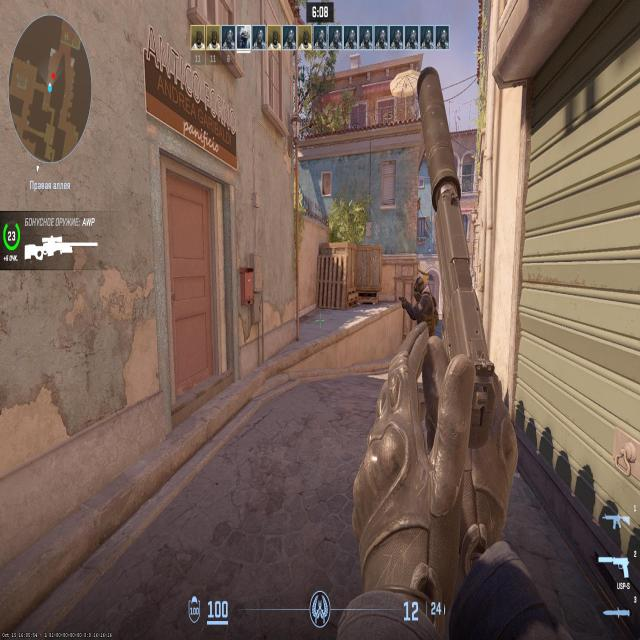CT: (409, 279, 436, 327)
CT_heat: (418, 280, 426, 296)
